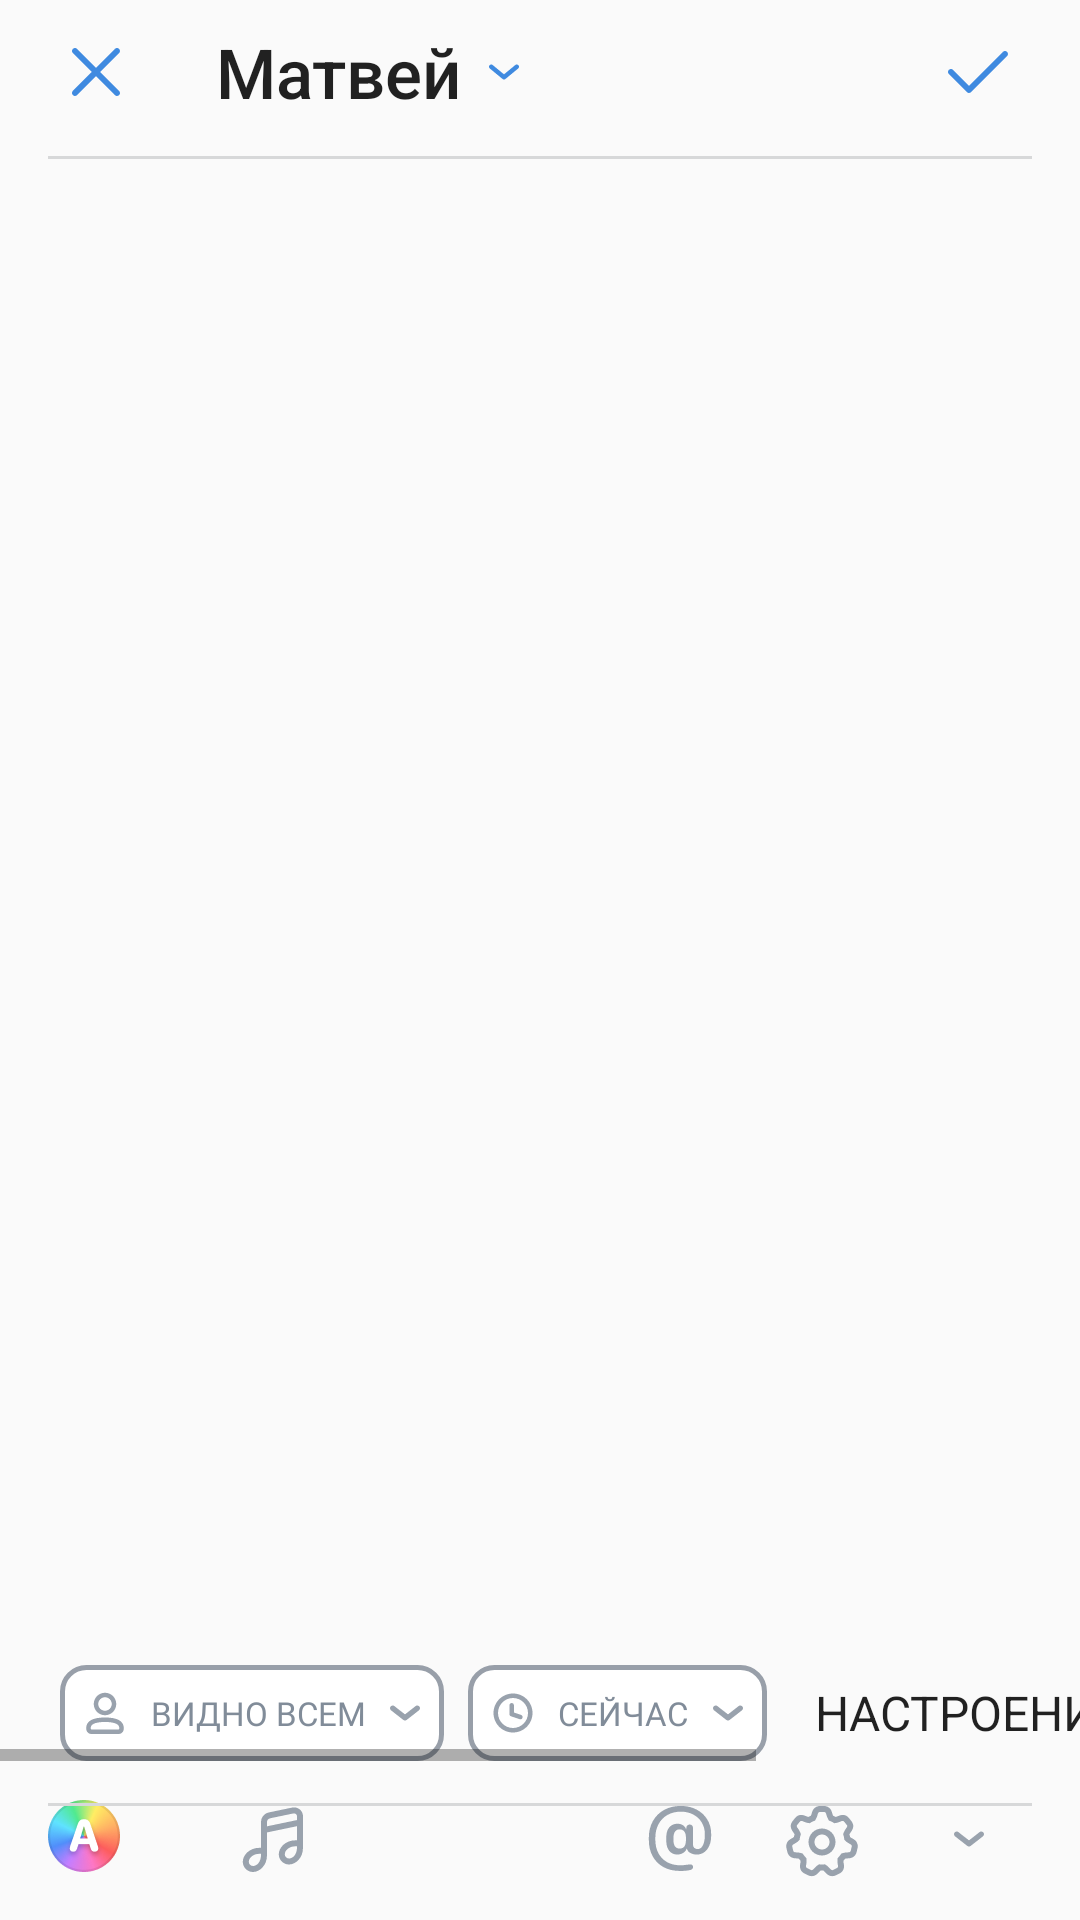

Where to tap for icons on this 1080px x 1920px app screen, as (x=x, y=y):
cancel: (x=96, y=72)
check: (x=978, y=72)
music: (x=272, y=1839)
settings: (x=822, y=1839)
